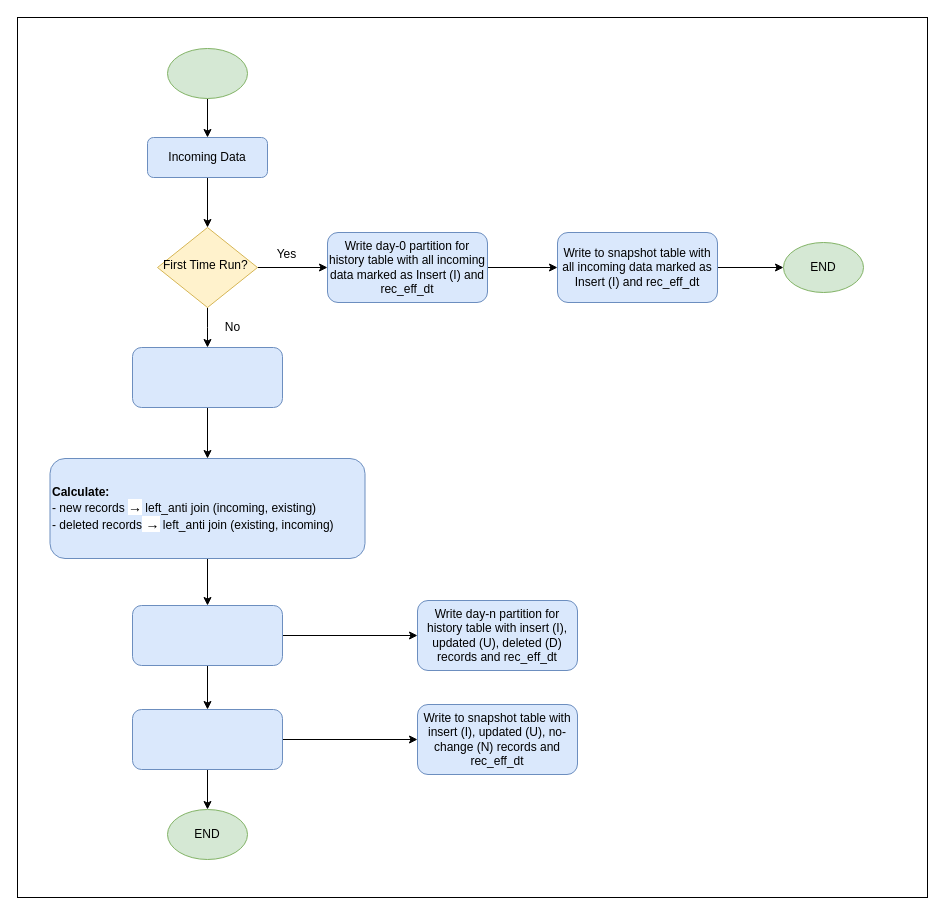
Image size: 945x915. Some labels were removed from this diagram. The box of each missing label's shape, as (x1, y1, x2, y2) in pixels:
Calculate no-change and updated records - based on MD5 hash: (132, 346, 282, 408)
START: (166, 48, 248, 98)
Union new, updated and deleted records as history dataframe: (132, 604, 282, 666)
Union new, updated and no-change records as snapshot dataframe: (132, 708, 282, 770)
